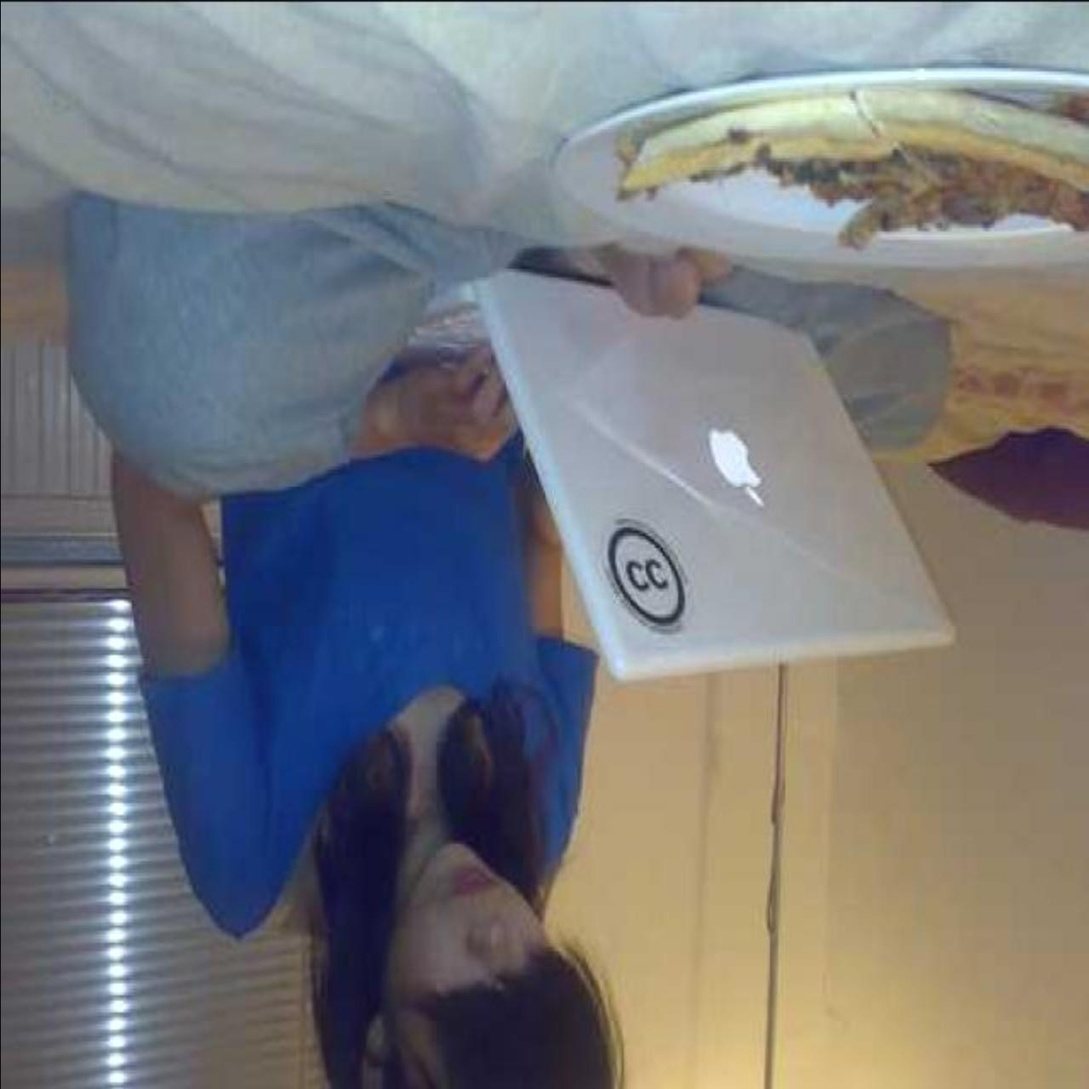laptop: (418, 284, 950, 679)
